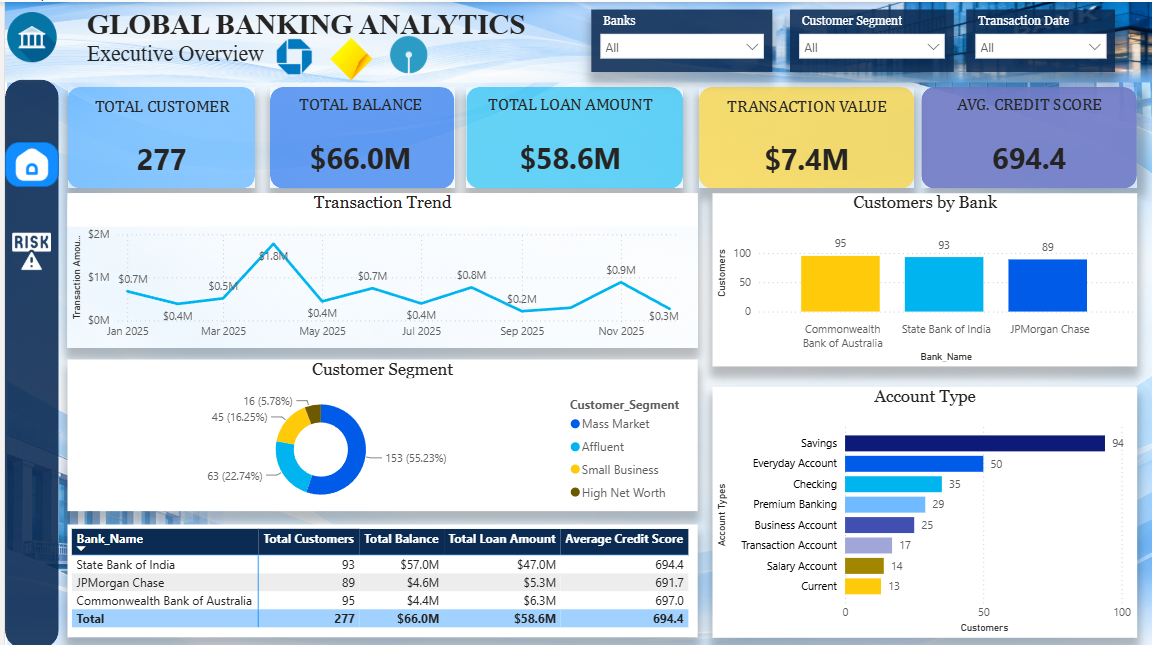

What the dashboard file says about the page in this screenshot:
{"tool":"powerbi","page":{"name":"Banking Executive Overview","canvas":[1280,720],"ordinal":0},"visuals":[{"type":"image","box":[0,1.5,1280.6,717.9],"z":0},{"type":"image","box":[0,0,1280.6,89.6],"z":1000},{"type":"shape","box":[1020.6,94.9,240.1,113.1],"z":2000},{"type":"shape","box":[772.1,94.9,240.1,113.1],"z":3000},{"type":"shape","box":[513.8,94.9,241.5,113.1],"z":4000},{"type":"shape","box":[294.6,94.9,205.2,113.1],"z":5000},{"type":"shape","box":[69.8,94.9,208.7,112.7],"z":6000},{"type":"cardVisual","title":"TOTAL CUSTOMER","fields":{"Data":["Banking.Total Customers"]},"box":[79.1,104.5,190.7,104.3],"z":7000},{"type":"cardVisual","title":"TOTAL BALANCE","fields":{"Data":["Banking.Total Balance"]},"box":[300.2,103.3,190.7,104.3],"z":8000},{"type":"cardVisual","title":"TOTAL LOAN AMOUNT","fields":{"Data":["Banking.Total Loan Amount"]},"box":[525,103.3,209.4,104.7],"z":9000},{"type":"cardVisual","title":"TRANSACTION VALUE","fields":{"Data":["Banking.Transaction Value"]},"box":[797.2,104.7,190.7,104.3],"z":10000},{"type":"cardVisual","title":"AVG. CREDIT SCORE","fields":{"Data":["Banking.Average Credit Score"]},"box":[1045.7,103.3,190.7,104.3],"z":11000},{"type":"lineChart","title":"Transaction Trend","fields":{"Y":["Sum(Banking.Transaction_Amount)"],"Category":["Banking.Transaction_Date.Variation.Date Hierarchy.Year","Banking.Transaction_Date.Variation.Date Hierarchy.Month","Banking.Transaction_Date.Variation.Date Hierarchy.Day"]},"box":[70.1,213.4,701.5,171.6],"z":12000},{"type":"clusteredColumnChart","title":"Customers by Bank","fields":{"Category":["Banking.Bank_Name"],"Y":["Banking.Total Customers"]},"box":[788.1,213.4,473.1,192.5],"z":13000},{"type":"donutChart","title":"Customer Segment","fields":{"Category":["Banking.Customer_Segment"],"Y":["Banking.Total Customers"]},"box":[70.1,398.5,701.5,168.7],"z":14000},{"type":"clusteredBarChart","title":"Account Type","fields":{"Category":["Banking.Account_Type"],"Y":["Banking.Total Customers"]},"box":[788.1,428.4,473.1,279.1],"z":15000},{"type":"pivotTable","fields":{"Rows":["Banking.Bank_Name"],"Values":["Banking.Total Customers","Banking.Total Balance","Banking.Total Loan Amount","Banking.Average Credit Score"]},"box":[69.7,581.6,701.5,125.5],"z":16000},{"type":"slicer","fields":{"Values":["Banking.Bank_Name"]},"box":[652.7,8.3,201.8,69.6],"z":17000},{"type":"slicer","fields":{"Values":["Banking.Transaction_Date"]},"box":[1070.1,8.3,165.6,69.6],"z":18000},{"type":"slicer","fields":{"Values":["Banking.Customer_Segment"]},"box":[873.9,8.3,182.3,69.6],"z":19000},{"type":"textbox","box":[86.3,1.4,588.1,88.1],"z":20000},{"type":"image","box":[270,39,103.4,43.3],"z":21000},{"type":"image","box":[334,39,103.4,48.9],"z":22000},{"type":"image","box":[385.5,30.6,128.6,55.9],"z":23000},{"type":"image","box":[0,11.1,59.8,55.7],"z":24000},{"type":"shape","box":[0,86.3,59.8,633.2],"z":25000},{"type":"shape","box":[0,155.9,59.8,50.1],"z":26000},{"type":"image","box":[0,161.4,59.8,39],"z":27000},{"type":"image","box":[0,256.1,59.8,43.1],"z":28000}]}

Visuals, with their boxes in screenshot pixels (x1, y1, x2, y2), scaled from the page's 1280x720 canvas onto the 1152x645 screenshot:
image: {"x1": 0, "y1": 1, "x2": 1151, "y2": 644}
image: {"x1": 0, "y1": 0, "x2": 1151, "y2": 80}
shape: {"x1": 919, "y1": 85, "x2": 1135, "y2": 186}
shape: {"x1": 695, "y1": 85, "x2": 911, "y2": 186}
shape: {"x1": 462, "y1": 85, "x2": 680, "y2": 186}
shape: {"x1": 265, "y1": 85, "x2": 450, "y2": 186}
shape: {"x1": 63, "y1": 85, "x2": 251, "y2": 186}
"TOTAL CUSTOMER" cardVisual: {"x1": 71, "y1": 94, "x2": 243, "y2": 187}
"TOTAL BALANCE" cardVisual: {"x1": 270, "y1": 93, "x2": 442, "y2": 186}
"TOTAL LOAN AMOUNT" cardVisual: {"x1": 472, "y1": 93, "x2": 661, "y2": 186}
"TRANSACTION VALUE" cardVisual: {"x1": 717, "y1": 94, "x2": 889, "y2": 187}
"AVG. CREDIT SCORE" cardVisual: {"x1": 941, "y1": 93, "x2": 1113, "y2": 186}
"Transaction Trend" lineChart: {"x1": 63, "y1": 191, "x2": 694, "y2": 345}
"Customers by Bank" clusteredColumnChart: {"x1": 709, "y1": 191, "x2": 1135, "y2": 364}
"Customer Segment" donutChart: {"x1": 63, "y1": 357, "x2": 694, "y2": 508}
"Account Type" clusteredBarChart: {"x1": 709, "y1": 384, "x2": 1135, "y2": 634}
pivotTable - Banking.Bank_Name x Banking.Total Customers: {"x1": 63, "y1": 521, "x2": 694, "y2": 633}
slicer - Banking.Bank_Name: {"x1": 587, "y1": 7, "x2": 769, "y2": 70}
slicer - Banking.Transaction_Date: {"x1": 963, "y1": 7, "x2": 1112, "y2": 70}
slicer - Banking.Customer_Segment: {"x1": 787, "y1": 7, "x2": 951, "y2": 70}
textbox: {"x1": 78, "y1": 1, "x2": 607, "y2": 80}
image: {"x1": 243, "y1": 35, "x2": 336, "y2": 74}
image: {"x1": 301, "y1": 35, "x2": 394, "y2": 79}
image: {"x1": 347, "y1": 27, "x2": 463, "y2": 77}
image: {"x1": 0, "y1": 10, "x2": 54, "y2": 60}
shape: {"x1": 0, "y1": 77, "x2": 54, "y2": 644}
shape: {"x1": 0, "y1": 140, "x2": 54, "y2": 185}
image: {"x1": 0, "y1": 145, "x2": 54, "y2": 180}
image: {"x1": 0, "y1": 229, "x2": 54, "y2": 268}
